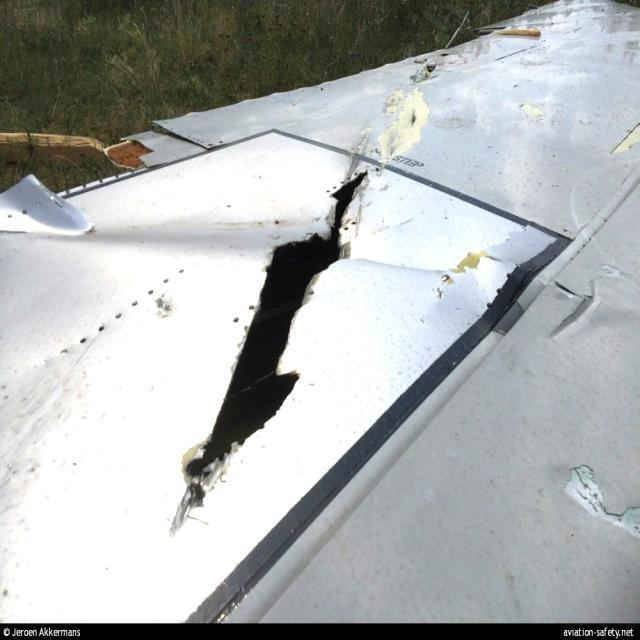crack: (171, 171, 370, 529), (410, 109, 420, 128)
